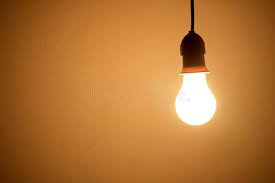bulb: (170, 54, 220, 136)
